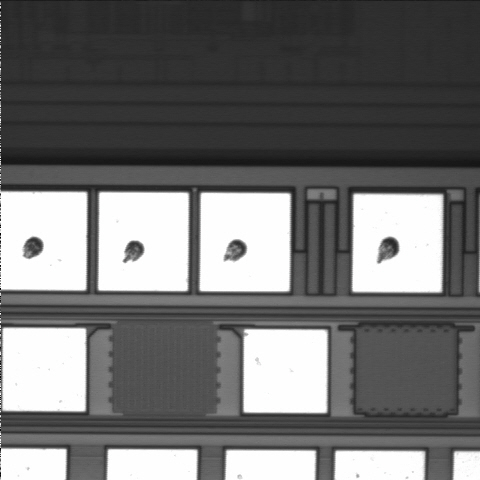pad: (98, 192, 189, 291), (200, 193, 290, 291), (353, 194, 443, 292), (244, 329, 327, 413), (3, 328, 86, 411)
